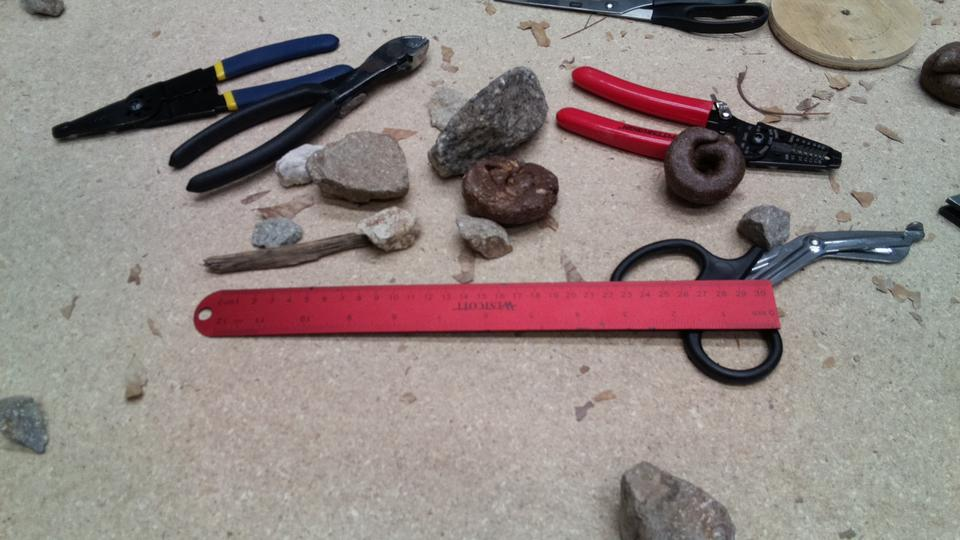poop: (661, 122, 750, 211), (459, 153, 563, 229), (915, 37, 960, 118)
